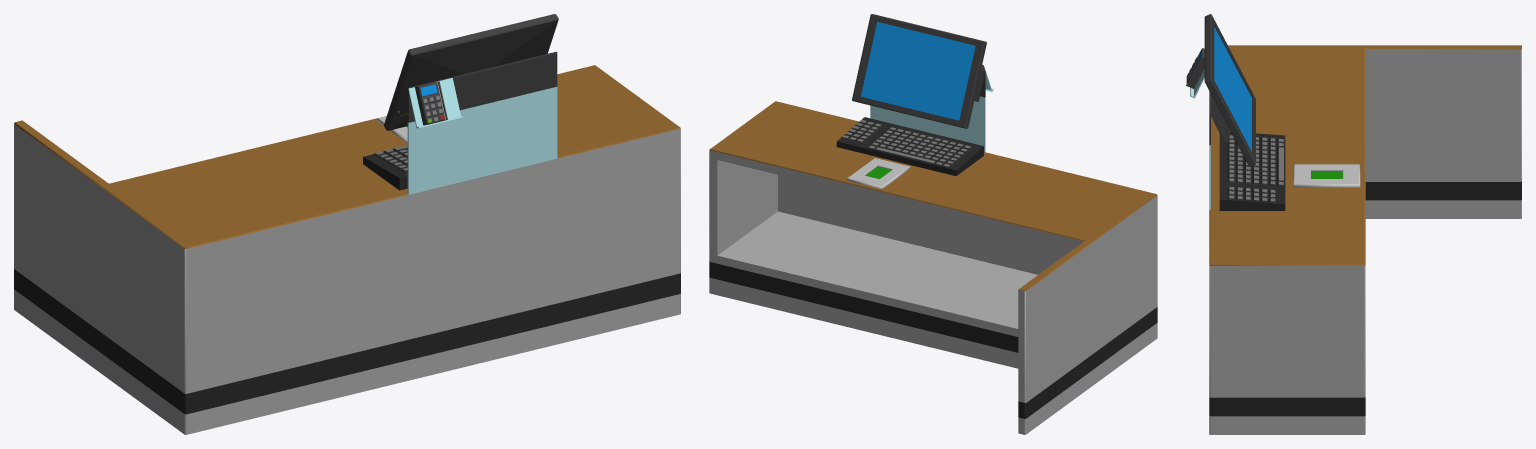
File: checkout_sm_left.glb
3 renders of one model, left to right at view 1: azimuth 30°, elevation 25°; view 2: azimuth 150°, elevation 25°; view 3: azimuth 270°, elevation 25°, orthographic. The views are drawn at different scales.
Visible parts, largest first — view 1: checkout_sm_left; view 2: checkout_sm_left; view 3: checkout_sm_left.
Boxes of the visible parts, <box> form: checkout_sm_left: <box>14,14,680,434</box>; checkout_sm_left: <box>709,14,1157,434</box>; checkout_sm_left: <box>1186,14,1521,434</box>.
Size of what is drawn, in the model's own units: 2.5 by 1.59 by 1.61.
Materials: 3 (2 with a texture image).
